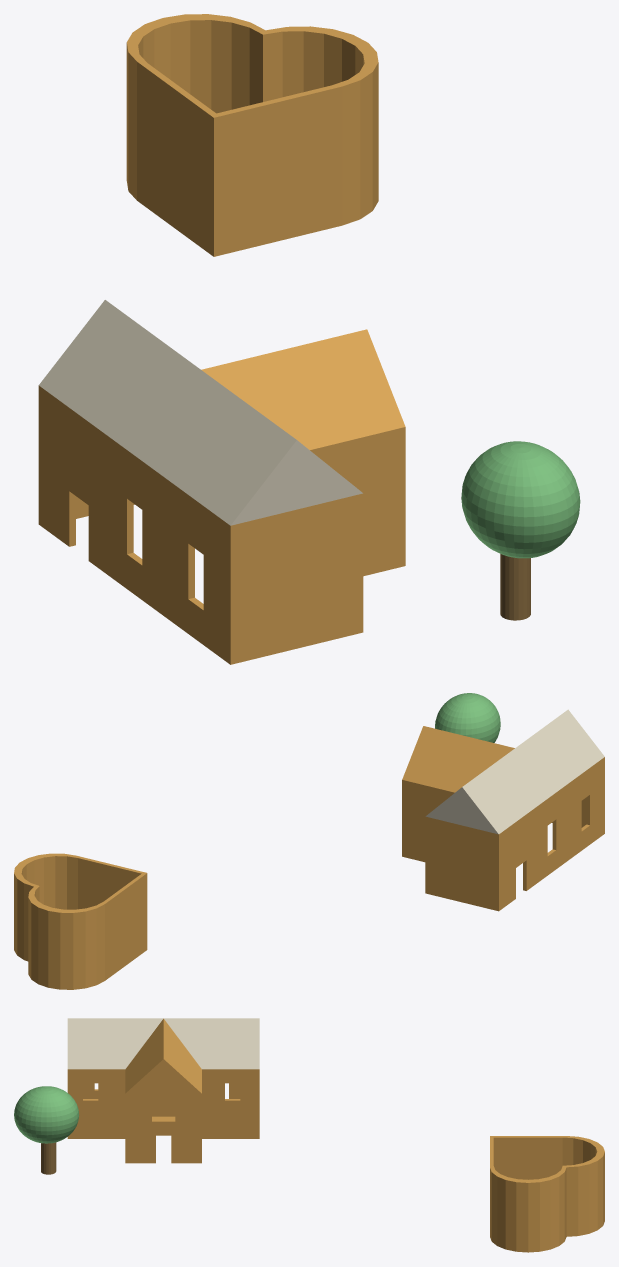
Rendered from miguelHouse.glb.
3 renders of one model, top to bottom at view 1: azimuth 30°, elevation 25°; view 2: azimuth 150°, elevation 25°; view 3: azimuth 270°, elevation 25°, orthographic. The views are drawn at different scales.
Visible parts, largest first — view 1: Mesh_Mesh_head_geo.001_lambert2SG.001; view 2: Mesh_Mesh_head_geo.001_lambert2SG.001; view 3: Mesh_Mesh_head_geo.001_lambert2SG.001.
Part boxes in pixels (x1,y1,x2,y2): Mesh_Mesh_head_geo.001_lambert2SG.001: (38,14,580,664); Mesh_Mesh_head_geo.001_lambert2SG.001: (14,693,604,989); Mesh_Mesh_head_geo.001_lambert2SG.001: (14,1018,604,1252).
Bounding box in the file's own units: 90 × 30 × 154.
